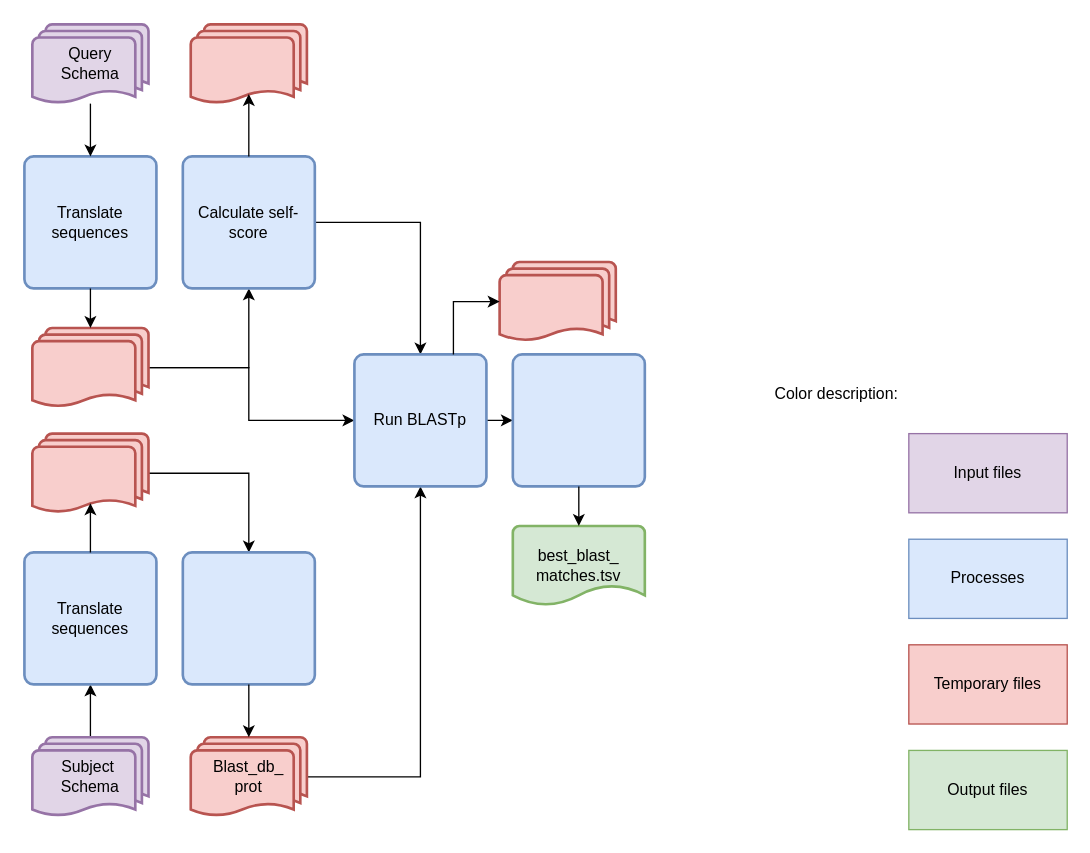
Image size: 1090x853. Some labels were removed from this diagram. Each missing label, with the centre of its shape:
blastp_ results: (557,301)
Create BLASTp database: (248,617)
Query Translations: (89,367)
self_score_ folder: (248,63)
Subject Translations: (89,472)
Write Results: (578,419)
